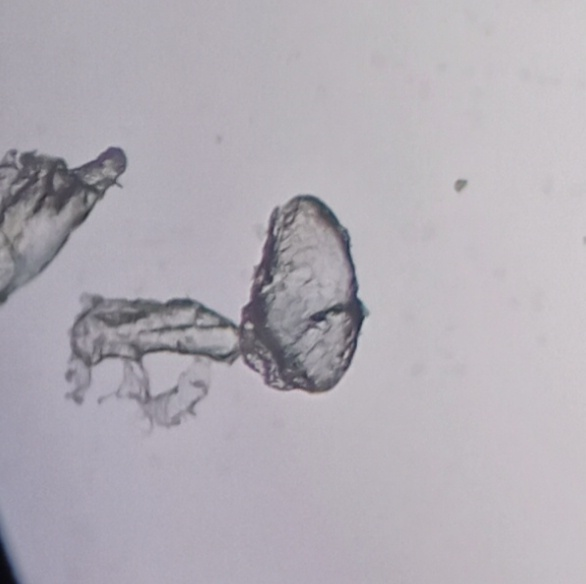microplastic: (50, 189, 374, 447), (1, 136, 130, 311)
